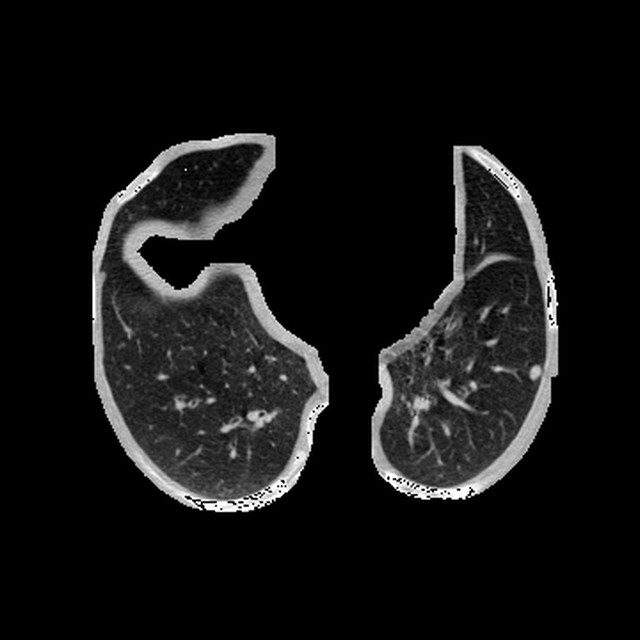PN: (528, 364, 542, 379)
